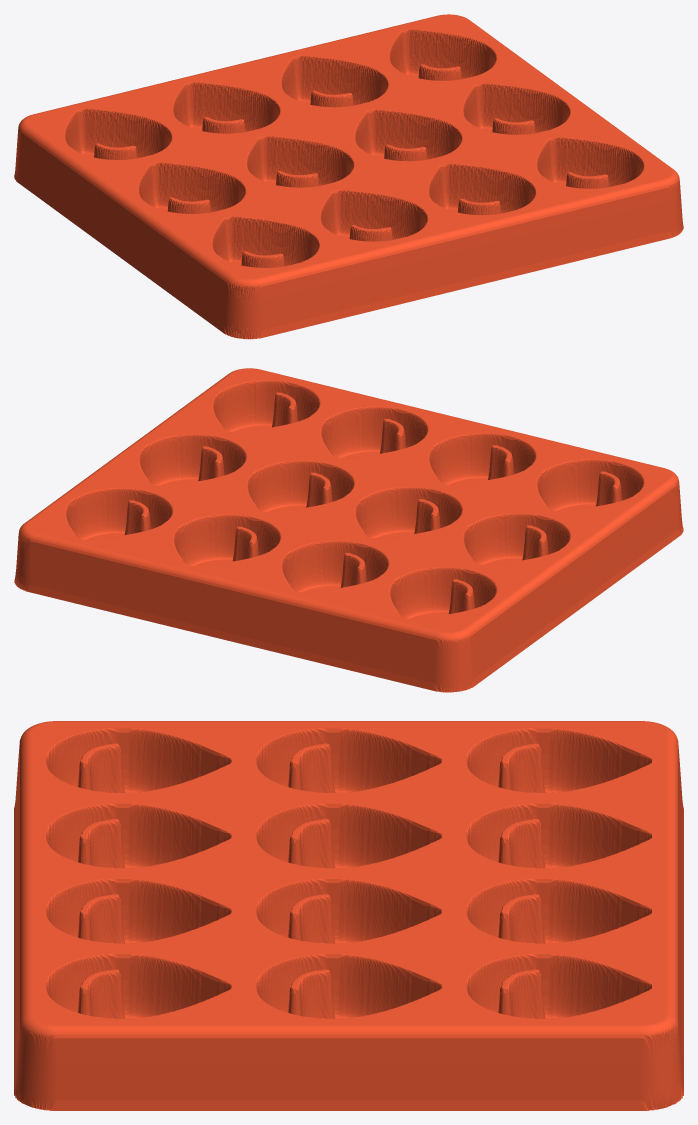
The model's file is mold.glb.
3 renders of one model, top to bottom at view 1: azimuth 30°, elevation 25°; view 2: azimuth 150°, elevation 25°; view 3: azimuth 270°, elevation 25°, orthographic. The views are drawn at different scales.
Parts seen in each view (by area): view 1: geometry_0; view 2: geometry_0; view 3: geometry_0.
Boxes of the visible parts, <box> form: geometry_0: <box>14,14,683,339</box>; geometry_0: <box>14,368,683,692</box>; geometry_0: <box>14,721,683,1110</box>.
Bounding box in the file's own units: 0.1582 × 0.0182 × 0.141.
